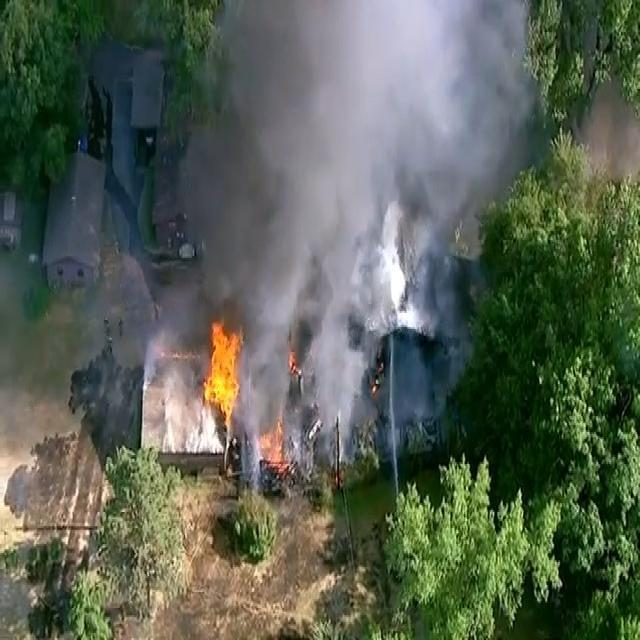Fire: (205, 320, 242, 427), (256, 420, 292, 474)
Smoke: (186, 0, 532, 464)
